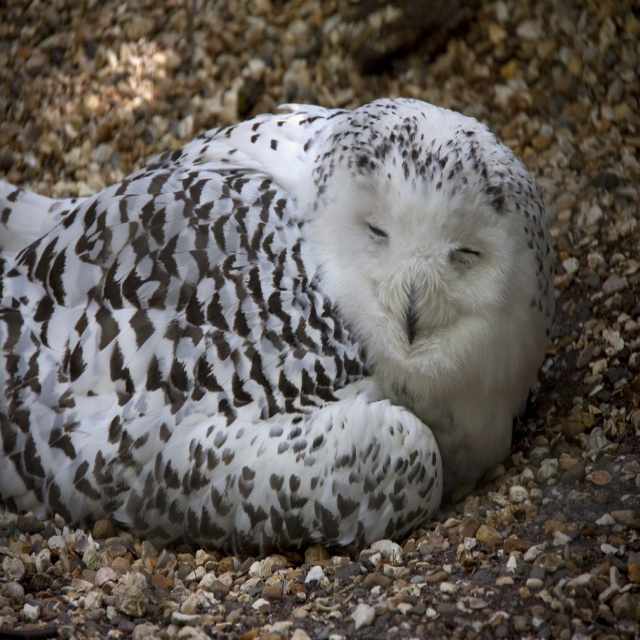Owl: (0, 85, 578, 570)
